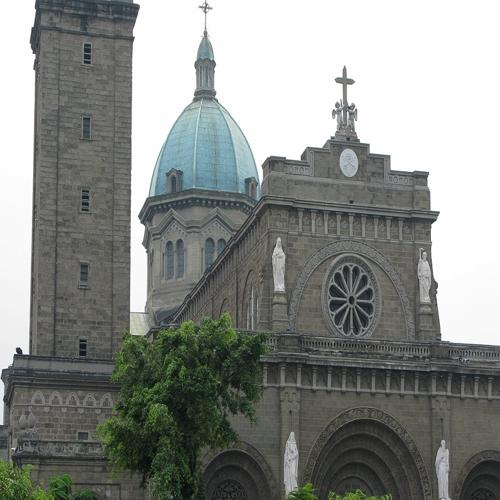Manila Cathedral Church: (7, 1, 495, 492)
